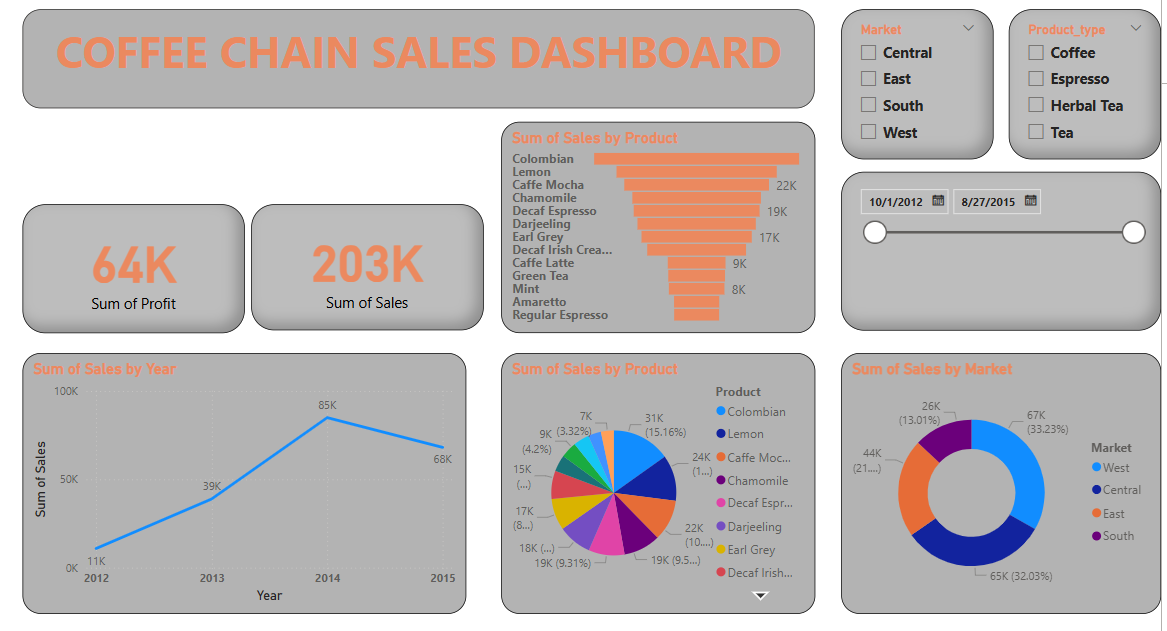

What the dashboard file says about the page in this screenshot:
{"tool":"powerbi","page":{"name":"Page 1","canvas":[1280,720],"ordinal":0},"visuals":[{"type":"card","fields":{"Values":["Sum(Coffee_Chain_Sales.Sales)"]},"box":[281.3,242.9,255.2,138.6],"z":0},{"type":"card","fields":{"Values":["Sum(Coffee_Chain_Sales.Profit)"]},"box":[30.2,242.9,244.3,141.3],"z":1000},{"type":"lineChart","fields":{"Category":["Coffee_Chain_Sales.Date.Variation.Date Hierarchy.Year","Coffee_Chain_Sales.Date.Variation.Date Hierarchy.Quarter","Coffee_Chain_Sales.Date.Variation.Date Hierarchy.Month","Coffee_Chain_Sales.Date.Variation.Date Hierarchy.Day"],"Y":["Sum(Coffee_Chain_Sales.Sales)"]},"box":[30.2,406.2,487.1,286.8],"z":2000},{"type":"slicer","fields":{"Values":["Coffee_Chain_Sales.Market"]},"box":[929,28.8,167.4,164.7],"z":3000},{"type":"slicer","fields":{"Values":["Coffee_Chain_Sales.Product_type"]},"box":[1112.9,28.8,167.4,164.7],"z":4000},{"type":"slicer","fields":{"Values":["Coffee_Chain_Sales.Date"]},"box":[929,207.2,351.3,174.3],"z":5000},{"type":"donutChart","fields":{"Category":["Coffee_Chain_Sales.Market"],"Y":["Sum(Coffee_Chain_Sales.Sales)"]},"box":[929,406.2,351.3,286.8],"z":6000},{"type":"pieChart","fields":{"Category":["Coffee_Chain_Sales.Product"],"Y":["Sum(Coffee_Chain_Sales.Sales)"]},"box":[555.7,406.2,344.4,286.8],"z":7000},{"type":"funnel","fields":{"Category":["Coffee_Chain_Sales.Product"],"Y":["Sum(Coffee_Chain_Sales.Sales)"]},"box":[555.7,152.3,344.4,231.9],"z":8000},{"type":"textbox","box":[30.2,28.8,870,108.4],"z":8001}]}

Visuals, with their boxes in screenshot pixels (x1, y1, x2, y2):
card - Sum(Coffee_Chain_Sales.Sales): 259, 203, 488, 327
card - Sum(Coffee_Chain_Sales.Profit): 33, 203, 252, 330
lineChart - Coffee_Chain_Sales.Date.Variation.Date Hierarchy.Year x Coffee_Chain_Sales.Date.Variation.Date Hierarchy.Quarter: 33, 349, 470, 607
slicer - Coffee_Chain_Sales.Market: 840, 11, 990, 158
slicer - Coffee_Chain_Sales.Product_type: 1005, 11, 1155, 158
slicer - Coffee_Chain_Sales.Date: 840, 171, 1155, 327
donutChart - Coffee_Chain_Sales.Market x Sum(Coffee_Chain_Sales.Sales): 840, 349, 1155, 607
pieChart - Coffee_Chain_Sales.Product x Sum(Coffee_Chain_Sales.Sales): 505, 349, 814, 607
funnel - Coffee_Chain_Sales.Product x Sum(Coffee_Chain_Sales.Sales): 505, 122, 814, 330
textbox: 33, 11, 814, 108
